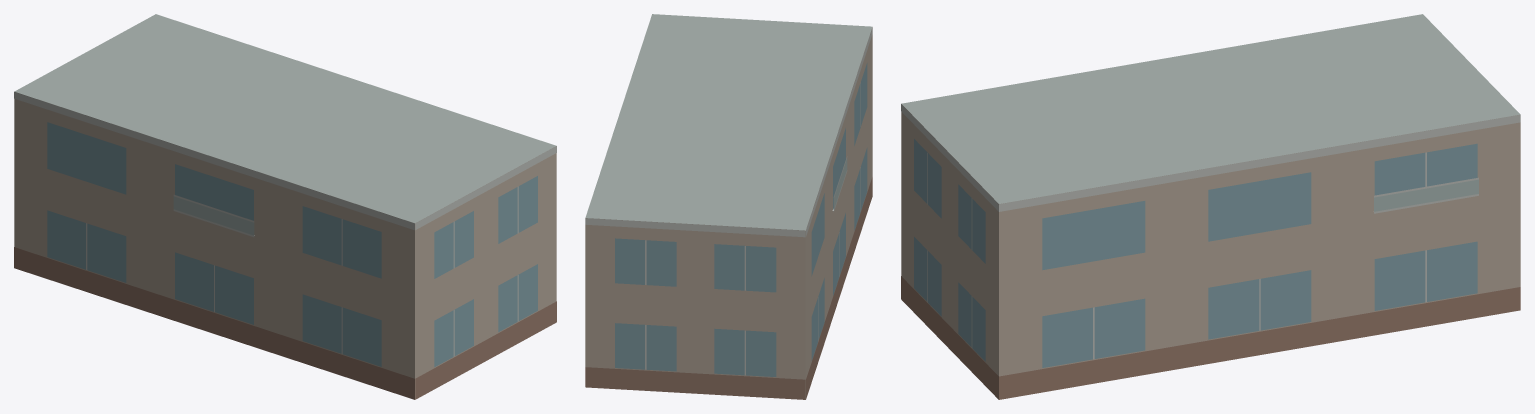
File: survey-upis-32980800.glb
3 renders of one model, left to right at view 1: azimuth 30°, elevation 25°; view 2: azimuth 150°, elevation 25°; view 3: azimuth 270°, elevation 25°, orthographic. The views are drawn at different scales.
Visible parts, largest first — view 1: survey-upis-32980800.tmp; view 2: survey-upis-32980800.tmp; view 3: survey-upis-32980800.tmp.
Part boxes in pixels (x1=…): survey-upis-32980800.tmp: x1=14, y1=14, x2=556, y2=399; survey-upis-32980800.tmp: x1=585, y1=14, x2=872, y2=399; survey-upis-32980800.tmp: x1=901, y1=14, x2=1520, y2=399.
Size of the model in its own units: 12.72 by 6.1 by 17.5.
